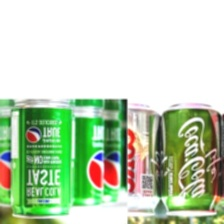can: (8, 97, 73, 218), (159, 101, 219, 215), (63, 104, 107, 212), (126, 100, 160, 217), (98, 105, 122, 208), (0, 106, 13, 210)
